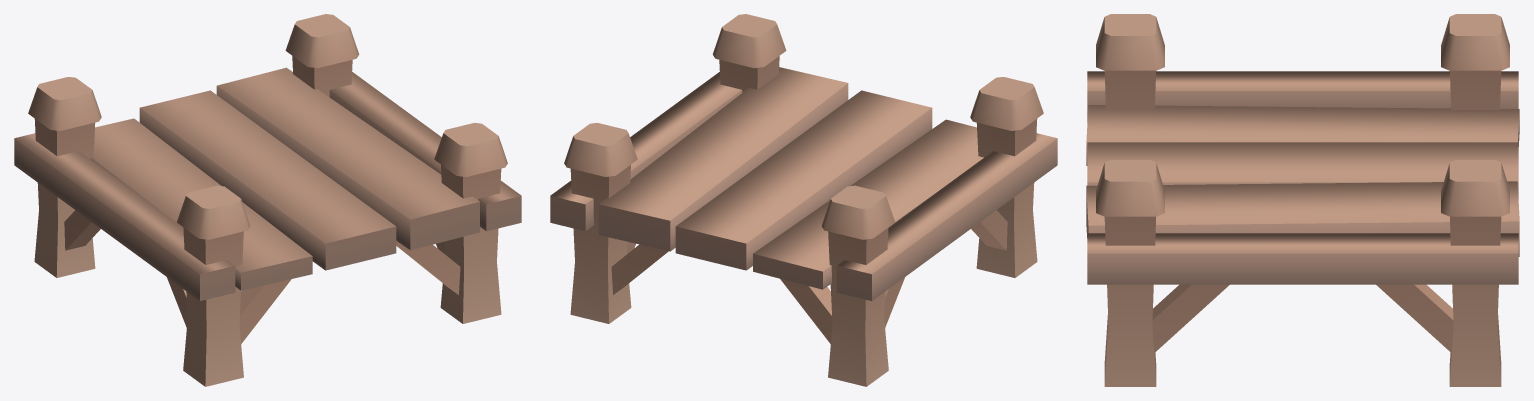
File: structure-platform-dock.glb
3 views of the same model, side by side, from view 1: azimuth 30°, elevation 25°; view 2: azimuth 150°, elevation 25°; view 3: azimuth 270°, elevation 25° (orthographic). The views are drawn at different scales.
Visible parts, largest first — view 1: structure-platform-dock; view 2: structure-platform-dock; view 3: structure-platform-dock.
Part boxes in pixels (x1=…): structure-platform-dock: x1=14, y1=14, x2=521, y2=386; structure-platform-dock: x1=550, y1=14, x2=1057, y2=386; structure-platform-dock: x1=1086, y1=14, x2=1519, y2=386.
Bounding box in the file's own units: 2.5 × 1.31 × 2.51.
